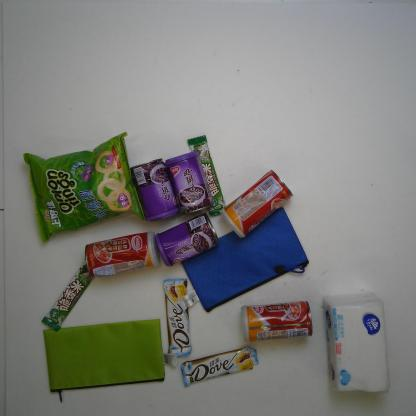Canned Food: (219, 167, 295, 240), (82, 229, 162, 282), (154, 210, 222, 268), (128, 156, 183, 224), (162, 149, 217, 217), (238, 298, 314, 346)
Chocolate: (40, 256, 98, 334), (184, 132, 229, 218), (179, 346, 260, 388), (160, 274, 194, 360)
Puffed Food: (20, 127, 148, 247)
Stationery: (177, 206, 314, 316), (38, 315, 180, 405)
Tissue: (320, 286, 394, 396)
